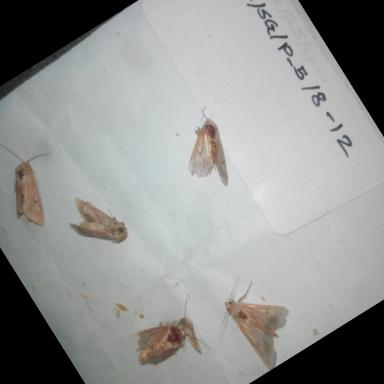abw: (187, 253, 314, 384), (0, 113, 85, 239), (160, 98, 256, 202), (117, 289, 222, 384), (52, 174, 138, 268)
